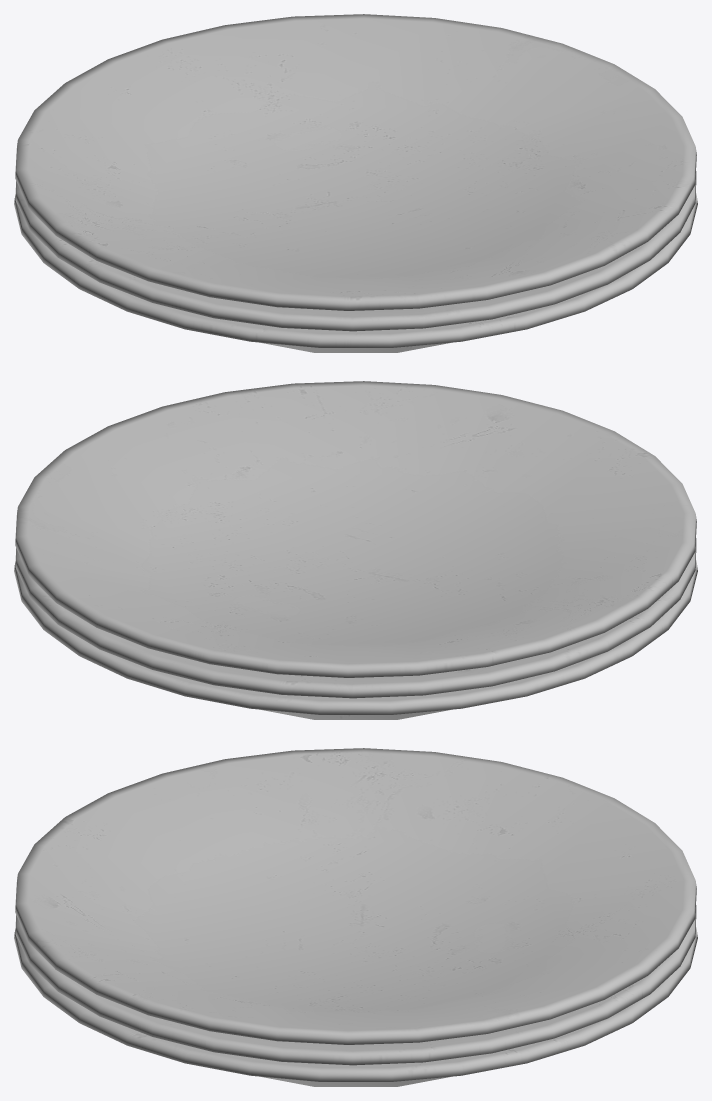
File: SM_Dishes_A5.fbx
The picture shows the model from 3 angles, top to bottom: view 1: azimuth 30°, elevation 25°; view 2: azimuth 150°, elevation 25°; view 3: azimuth 270°, elevation 25°; orthographic projection.
Parts seen in each view (by area): view 1: SM_Dishes_A5; view 2: SM_Dishes_A5; view 3: SM_Dishes_A5.
Part boxes in pixels (<box>): SM_Dishes_A5: <box>14,14,697,352</box>; SM_Dishes_A5: <box>14,381,697,719</box>; SM_Dishes_A5: <box>14,748,697,1086</box>.
Bounding box in the file's own units: 24.11 × 24.11 × 4.33.
Materials: 1 (1 with a texture image).
